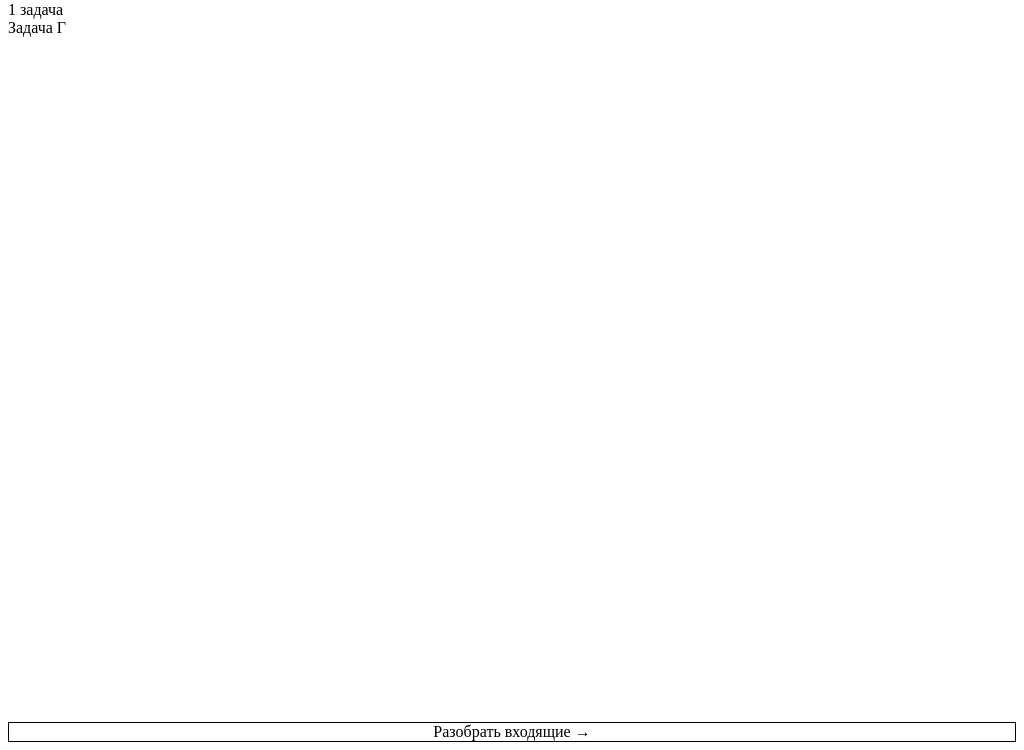
Inbox — действия карточки › «Проект» при пустом списке проектов показывает недоступный пункт «Проектов пока нет», задача не тронута
The width and height of the screenshot is (1024, 750).
(page scrolled)
Expected: the text "Задача Г" is shown, 8,19 -> 66,37
Click the button "Разобрать входящие →". click: [512, 732]
box: 8,722 -> 1016,742
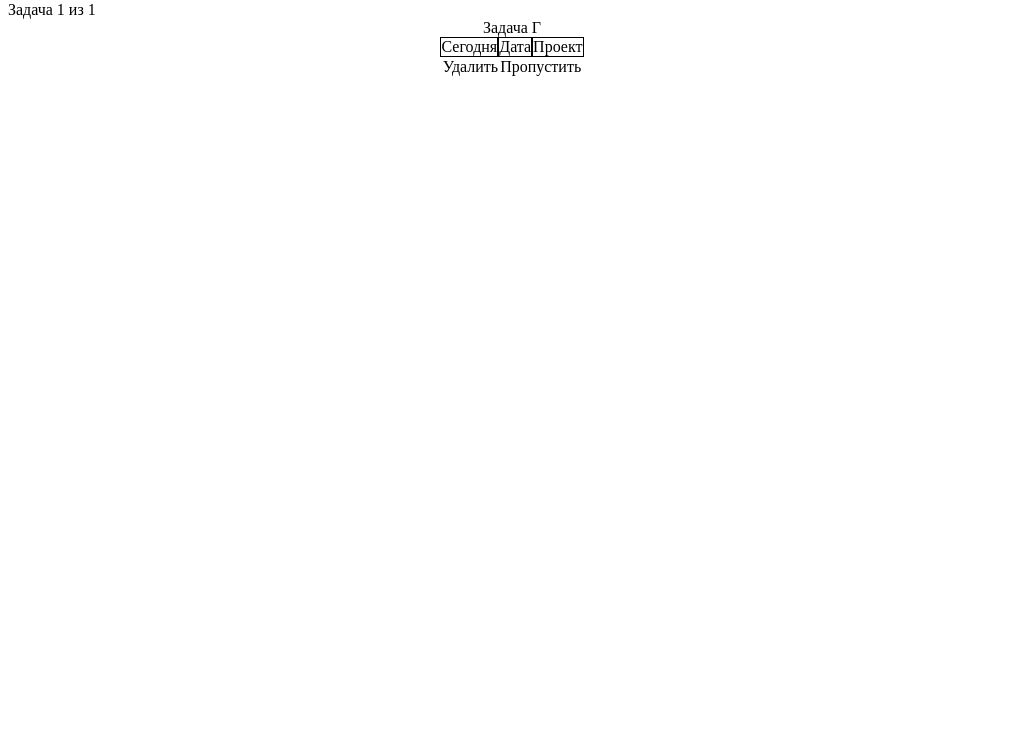
Click the button "Проект". click: [558, 47]
box: 532,37 -> 584,57
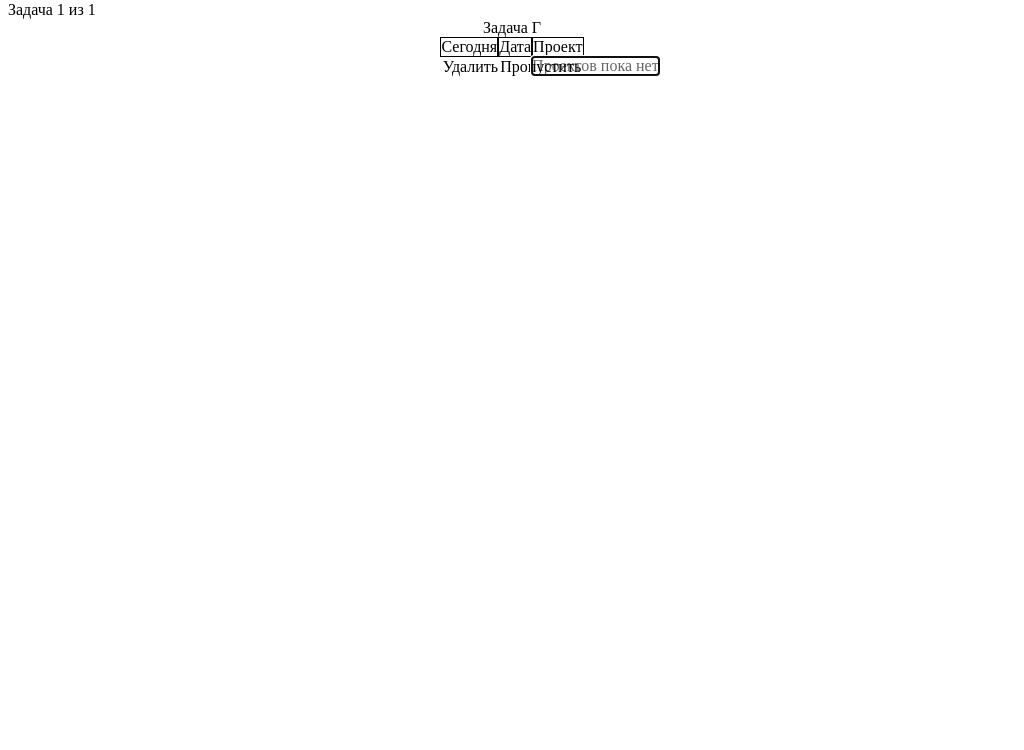
Expected: the menu item "Проектов пока нет" is disabled, 532,57 -> 659,75
